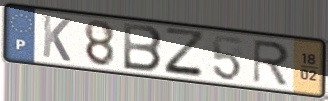5: (212, 33, 245, 83)
8: (82, 19, 116, 68)
B: (122, 21, 165, 74)
K: (40, 13, 73, 64)
R: (252, 38, 292, 88)
Z: (163, 26, 208, 81)
